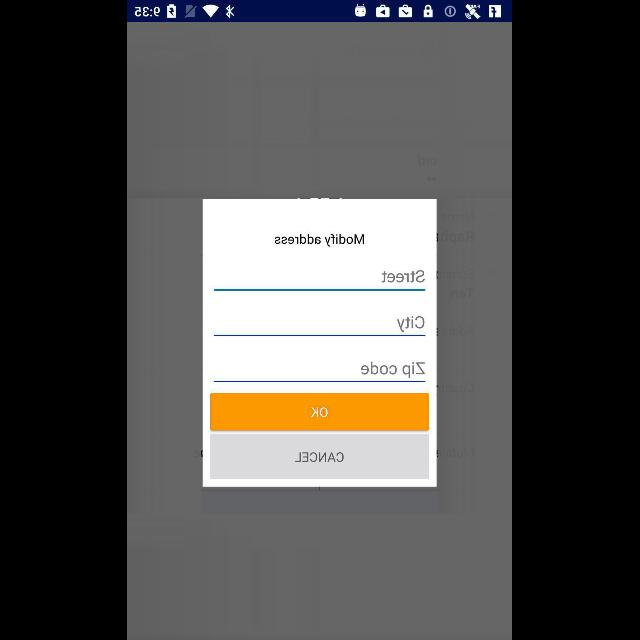input: (214, 270, 426, 292), (214, 316, 426, 336), (214, 362, 426, 382)
panel: (203, 199, 437, 486)
text: (276, 234, 364, 246), (362, 362, 426, 378), (382, 270, 426, 284), (398, 316, 426, 332)
textbutton: (210, 434, 430, 480), (210, 394, 430, 431)
uppertaskbar: (128, 1, 512, 23)
